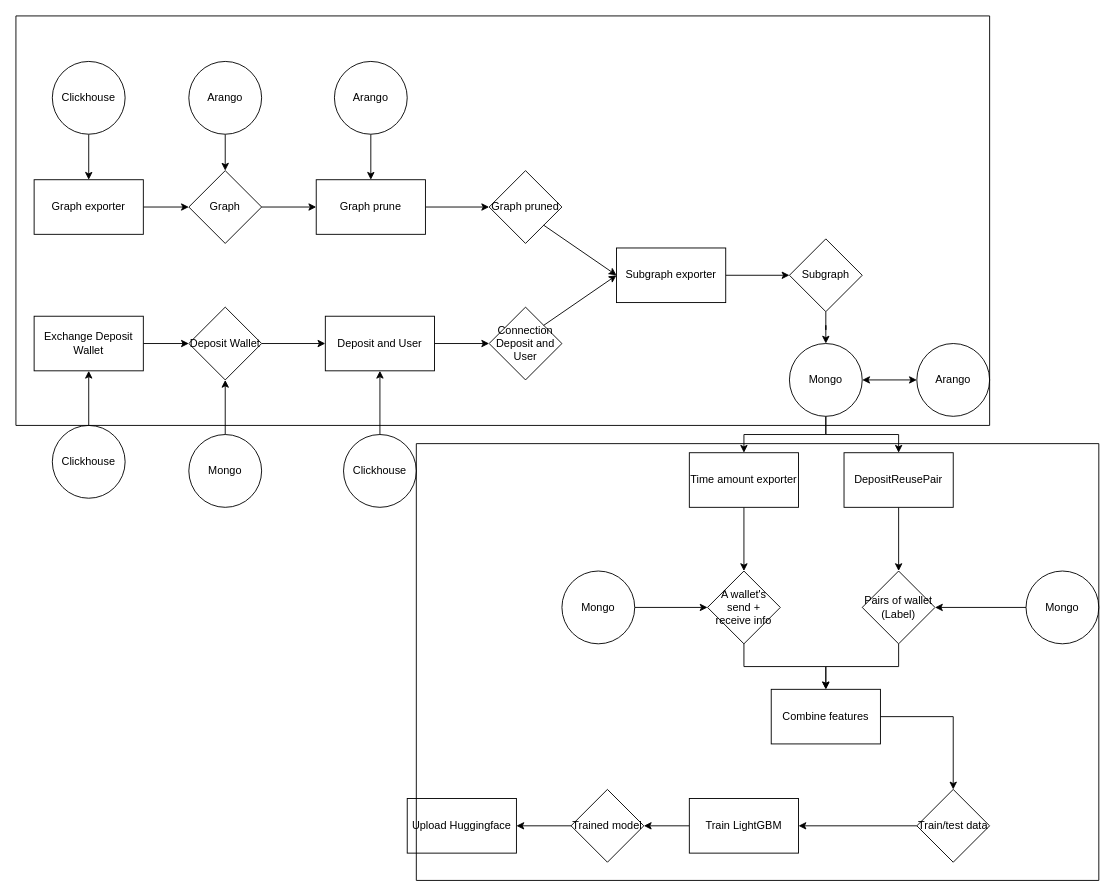
Image size: 1115x896. Some labels were removed from this diagram. Each missing label, with the box of its shape:
First half: (15, 15, 990, 425)
Second half: (415, 443, 1099, 880)
